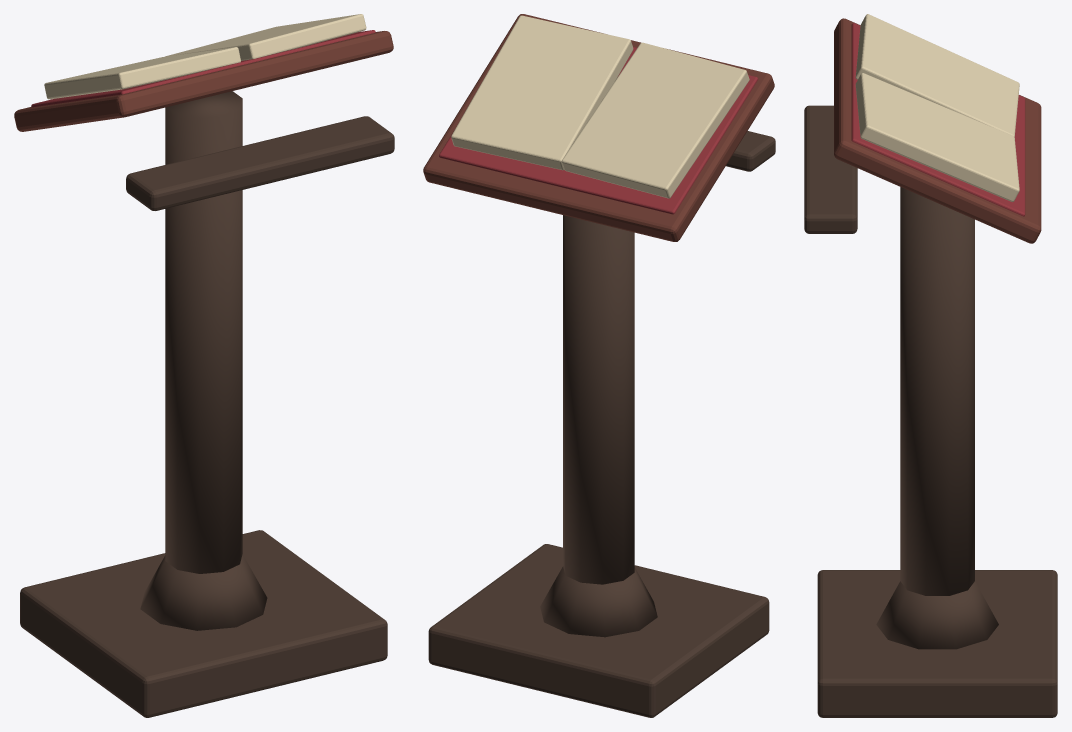
Rendered from lectern.glb.
3 views of the same model, side by side, from view 1: azimuth 30°, elevation 25°; view 2: azimuth 150°, elevation 25°; view 3: azimuth 270°, elevation 25° (orthographic). The views are drawn at different scales.
Parts seen in each view (by area): view 1: GD_lectern; view 2: GD_lectern; view 3: GD_lectern.
Boxes of the visible parts, x1,y1,x2,y2 form: GD_lectern: [14, 14, 394, 717]; GD_lectern: [423, 14, 775, 717]; GD_lectern: [804, 14, 1057, 717].
Bounding box in the file's own units: 0.56 × 1.23 × 0.475.
